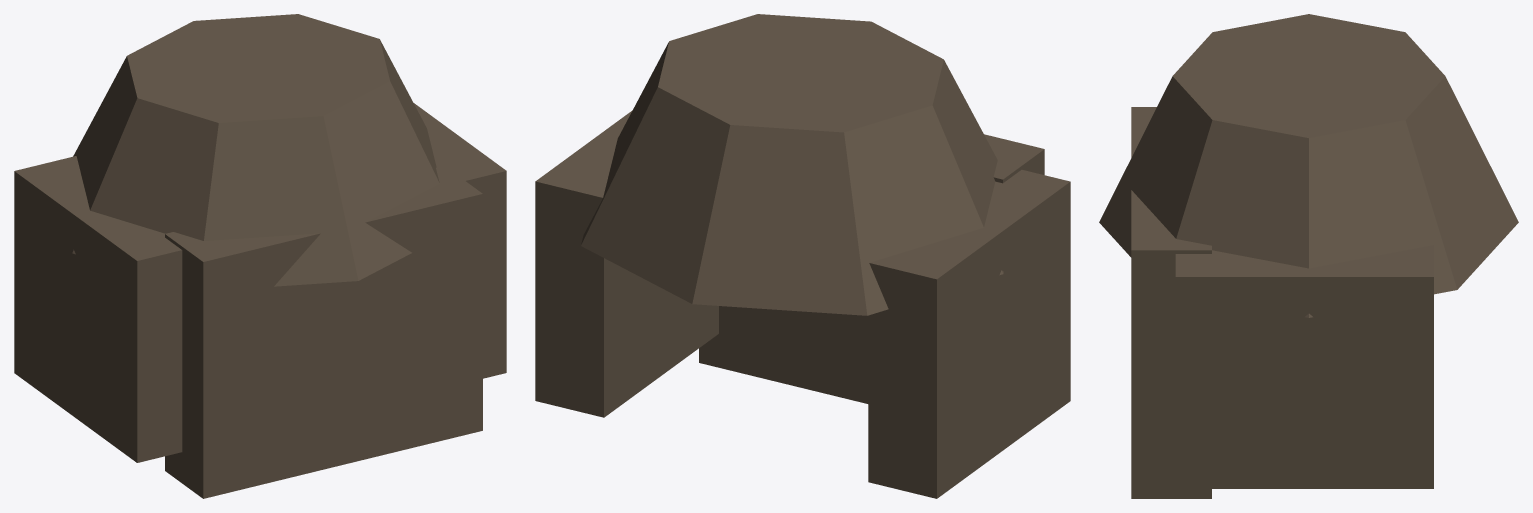
The model's file is Pawn_Hood.fbx.
3 renders of one model, left to right at view 1: azimuth 30°, elevation 25°; view 2: azimuth 150°, elevation 25°; view 3: azimuth 270°, elevation 25°, orthographic. The views are drawn at different scales.
Parts seen in each view (by area): view 1: Pawn_Hood; view 2: Pawn_Hood; view 3: Pawn_Hood.
Part boxes in pixels (<box>): Pawn_Hood: <box>14,14,506,498</box>; Pawn_Hood: <box>535,14,1070,498</box>; Pawn_Hood: <box>1099,14,1518,498</box>.
Size of the model in its own units: 0.56 by 0.48 by 0.52.
